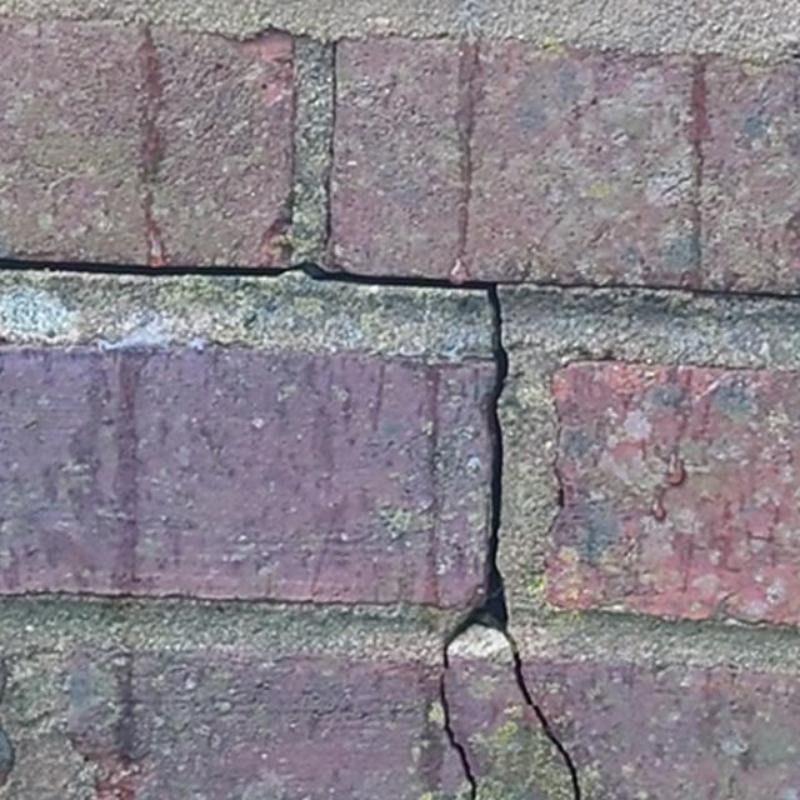pothole: (0, 259, 581, 799), (494, 279, 799, 301), (320, 36, 339, 254)
